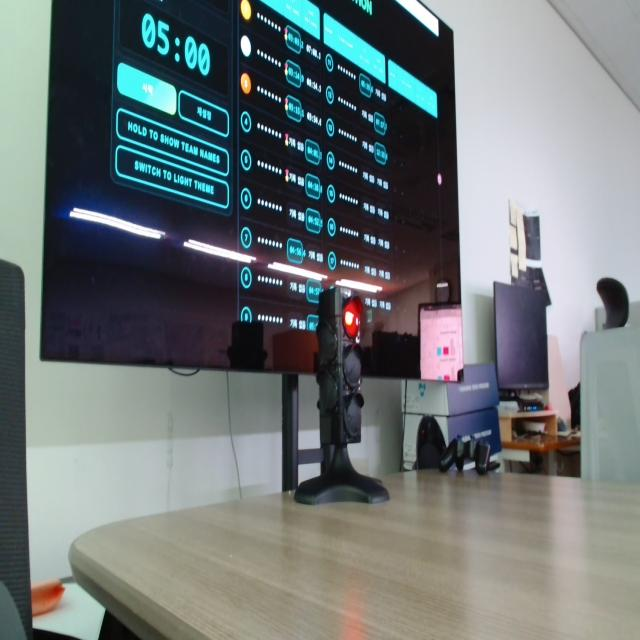red_light: (343, 297, 362, 338)
